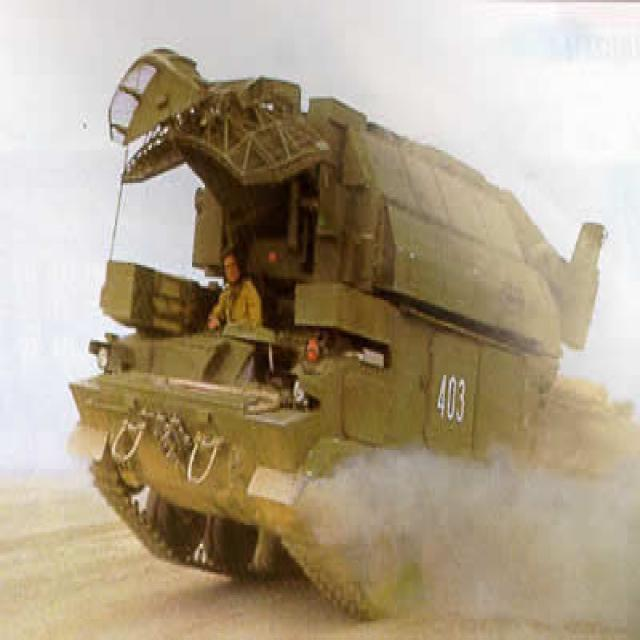MIL_EW_RDR: (79, 46, 636, 611)
